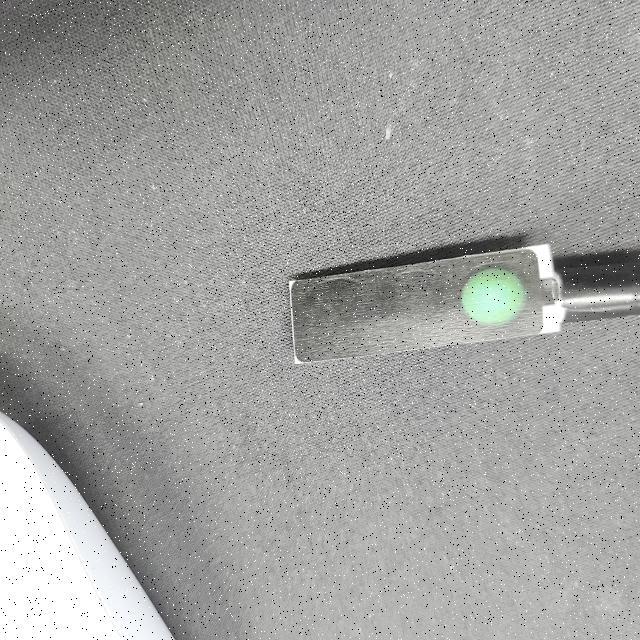traffic light: (292, 237, 561, 364)
